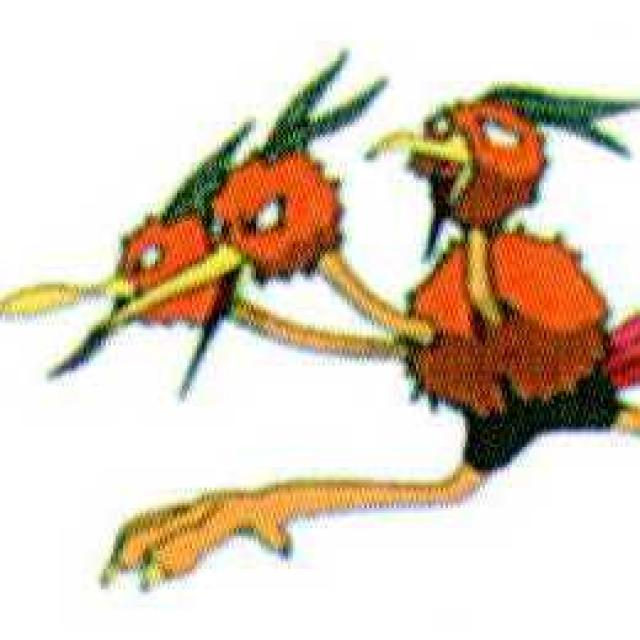Dodrio: (95, 107, 625, 514)
